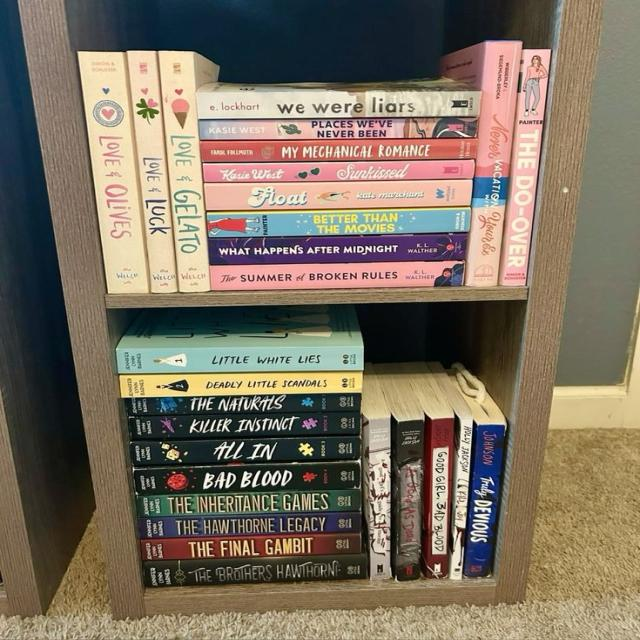book: (78, 51, 149, 293), (158, 51, 219, 292), (464, 41, 522, 286), (127, 51, 178, 293), (499, 49, 549, 286), (144, 552, 366, 588), (198, 90, 480, 117), (134, 461, 360, 494), (131, 437, 360, 467), (200, 117, 477, 141), (119, 371, 362, 398), (129, 412, 360, 440), (208, 209, 471, 233), (210, 236, 467, 260), (204, 183, 472, 206), (212, 262, 462, 286), (140, 512, 361, 539), (141, 533, 359, 560), (200, 139, 475, 160), (124, 393, 360, 416), (118, 348, 364, 369), (396, 420, 425, 582), (203, 162, 474, 178), (368, 419, 392, 580), (135, 494, 361, 511), (426, 418, 449, 582), (474, 423, 498, 577), (452, 418, 467, 578)
